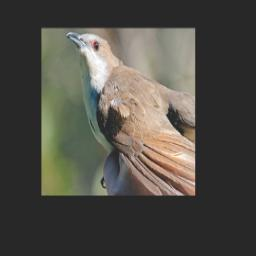Cuckoo: (66, 32, 195, 196)
